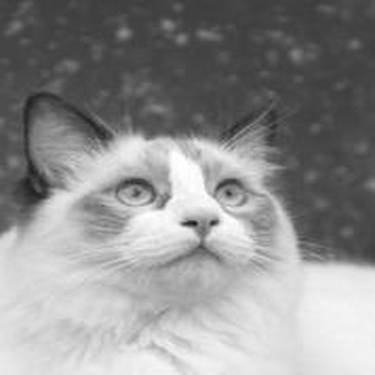cat: (13, 84, 309, 372)
